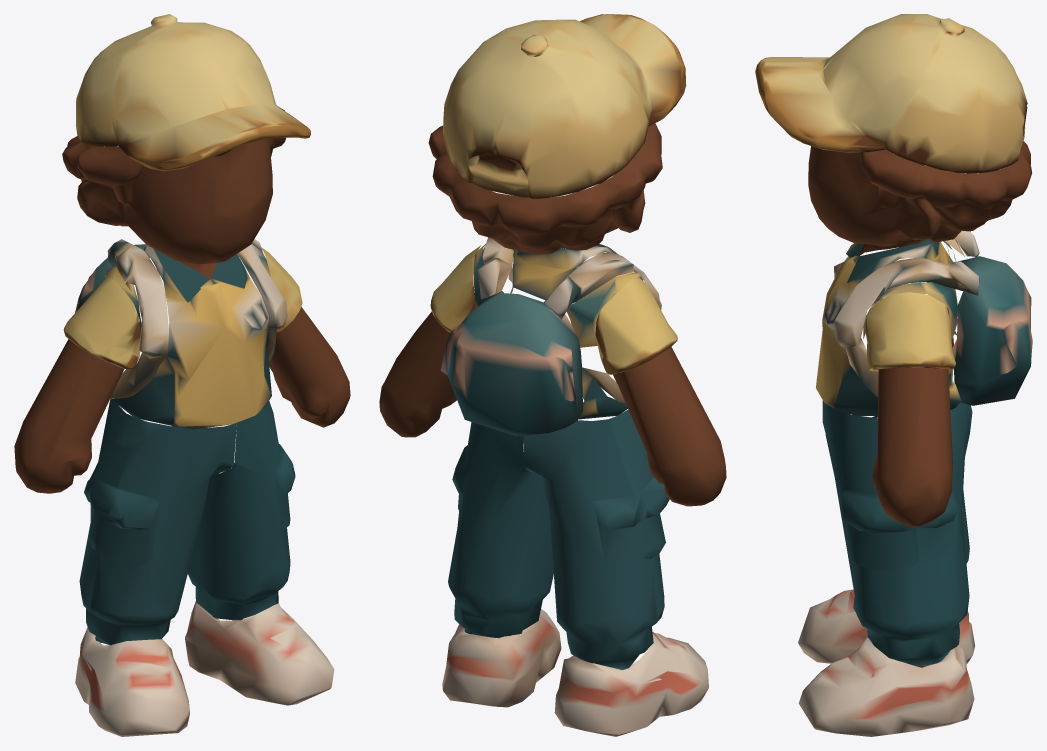
3 views of the same model, side by side, from view 1: azimuth 30°, elevation 25°; view 2: azimuth 150°, elevation 25°; view 3: azimuth 270°, elevation 25° (orthographic). The views are drawn at different scales.
Visible parts, largest first — view 1: bottom, top, hair, head, shoe_l, hand_r, shoe_r, hand_l, sleeve_r, sleeve_l; view 2: bottom, hair, top, head, shoe_r, hand_r, shoe_l, hand_l, sleeve_r, sleeve_l; view 3: hair, top, bottom, head, shoe_l, hand_l, sleeve_l, shoe_r.
Boxes of the visible parts, x1,y1,x2,y2 form: bottom: (79, 398, 295, 645); top: (75, 239, 287, 429); hair: (76, 14, 310, 171); head: (62, 107, 285, 279); shoe_l: (185, 601, 334, 705); hand_r: (14, 339, 124, 493); shoe_r: (75, 627, 189, 736); hand_l: (266, 307, 350, 427); sleeve_r: (63, 275, 140, 369); sleeve_l: (261, 247, 302, 333); bottom: (448, 409, 669, 669); hair: (443, 14, 686, 198); top: (440, 237, 661, 436); head: (428, 123, 662, 254); shoe_r: (554, 632, 708, 736); hand_r: (613, 347, 726, 506); shoe_l: (442, 609, 561, 707); hand_l: (379, 311, 456, 437); sleeve_r: (595, 278, 677, 374); sleeve_l: (430, 245, 480, 332); hair: (755, 14, 1027, 173); top: (816, 230, 1032, 416); bottom: (822, 400, 972, 665); head: (808, 141, 1031, 255); shoe_l: (798, 637, 974, 736); hand_l: (872, 367, 952, 527); sleeve_l: (865, 292, 955, 371); shoe_r: (798, 589, 974, 667).
Bounding box in the file's own units: 0.5351 × 1.03 × 0.3889.
